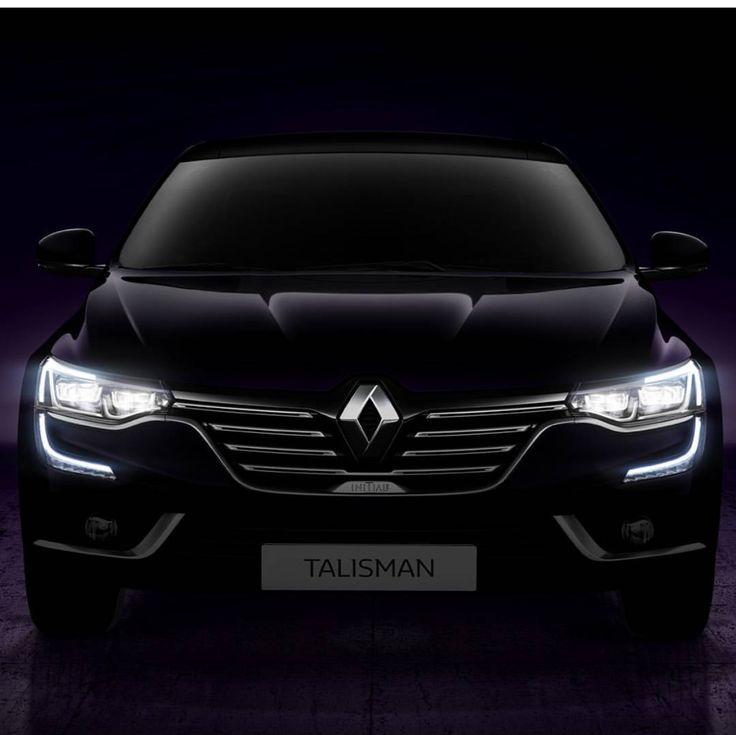plate: (261, 547, 479, 587)
